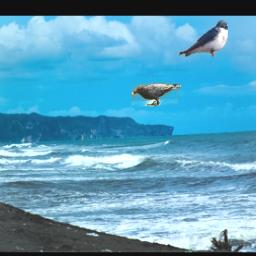Crow: (133, 84, 182, 107)
Swallow: (177, 19, 228, 56)
